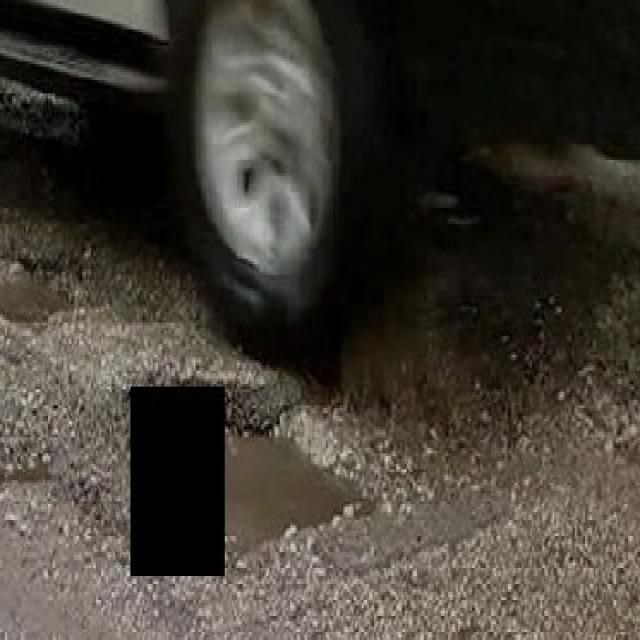road-pothole: (230, 382, 382, 565), (0, 250, 114, 330)
